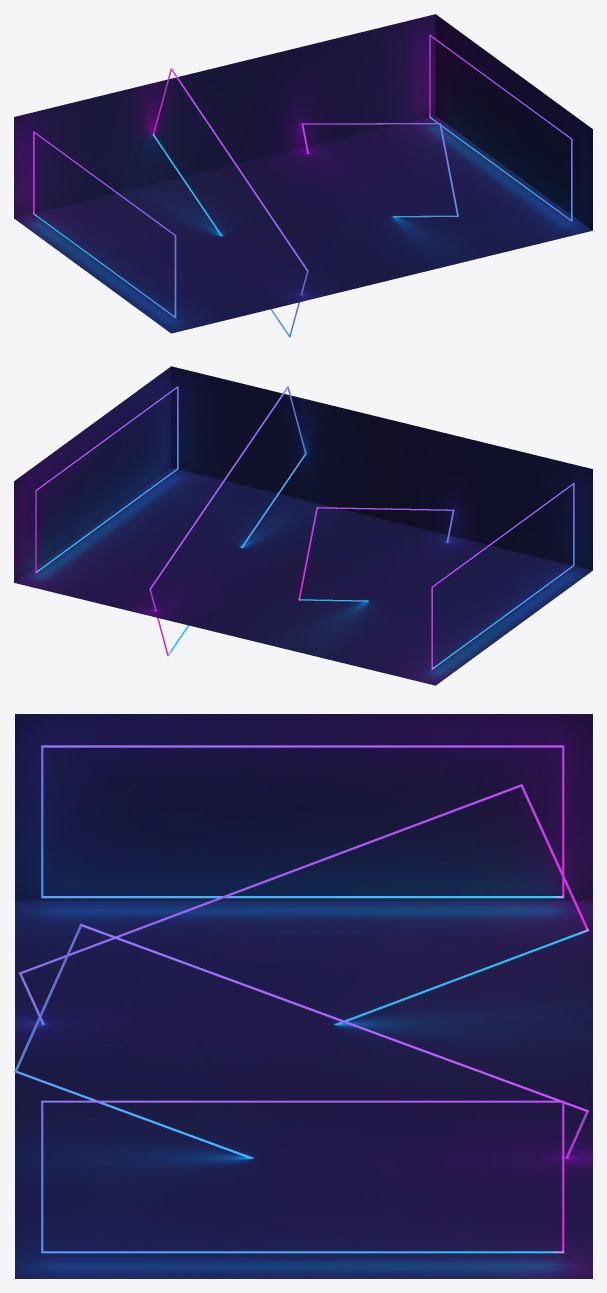
Rendered from lobby.glb.
3 renders of one model, top to bottom at view 1: azimuth 30°, elevation 25°; view 2: azimuth 150°, elevation 25°; view 3: azimuth 270°, elevation 25°, orthographic. The views are drawn at different scales.
Parts seen in each view (by area): view 1: Cube.001, Plane.006, Plane.007, Plane.004, Plane.005; view 2: Cube.001, Plane.005, Plane.004, Plane.007, Plane.006; view 3: Cube.001, Plane.004, Plane.007, Plane.006, Plane.005.
Part boxes in pixels (x1=…): Cube.001: x1=14, y1=14, x2=592, y2=333; Plane.006: x1=152, y1=68, x2=308, y2=337; Plane.007: x1=33, y1=131, x2=176, y2=318; Plane.004: x1=429, y1=34, x2=572, y2=221; Plane.005: x1=301, y1=123, x2=458, y2=217; Cube.001: x1=14, y1=366, x2=592, y2=685; Plane.005: x1=149, y1=386, x2=306, y2=656; Plane.004: x1=35, y1=386, x2=178, y2=572; Plane.007: x1=431, y1=483, x2=574, y2=669; Plane.006: x1=298, y1=507, x2=454, y2=601; Cube.001: x1=15, y1=714, x2=592, y2=1278; Plane.004: x1=41, y1=1100, x2=564, y2=1253; Plane.007: x1=41, y1=745, x2=564, y2=898; Plane.006: x1=18, y1=784, x2=589, y2=1024; Plane.005: x1=14, y1=923, x2=588, y2=1158.
Size of the model in its own units: 104 by 43.81 by 67.28.
Materials: 2 (2 with a texture image).
